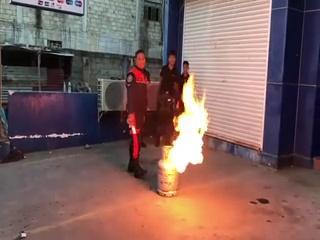Fire: (165, 75, 211, 177)
